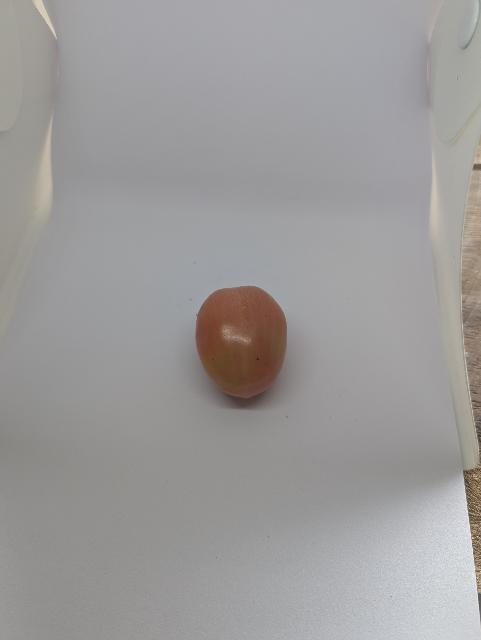turning: (185, 286, 310, 410)
